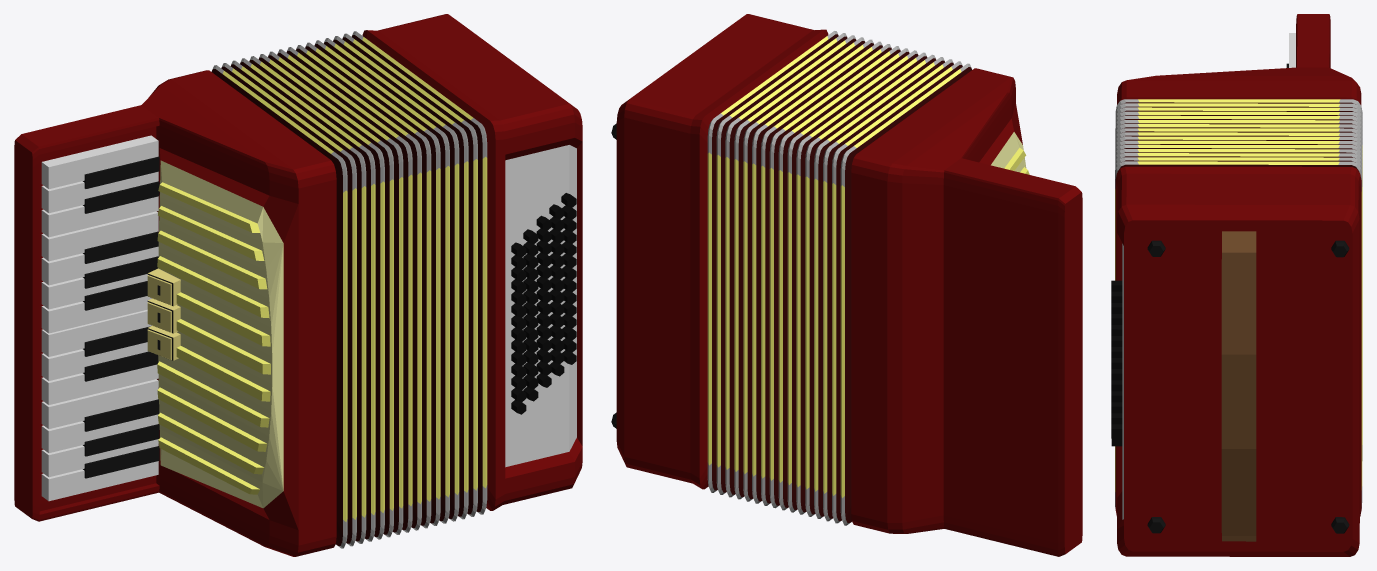
File: Accordion03.fbx
The picture shows the model from 3 angles, left to right: view 1: azimuth 30°, elevation 25°; view 2: azimuth 150°, elevation 25°; view 3: azimuth 270°, elevation 25°; orthographic projection. The views are drawn at different scales.
Parts seen in each view (by area): view 1: Cube.006; view 2: Cube.006; view 3: Cube.006.
Boxes of the visible parts, x1,y1,x2,y2 form: Cube.006: [14, 14, 582, 556]; Cube.006: [611, 14, 1082, 556]; Cube.006: [1111, 14, 1362, 556].
Bounding box in the file's own units: 57.16 × 43.51 × 27.66.
